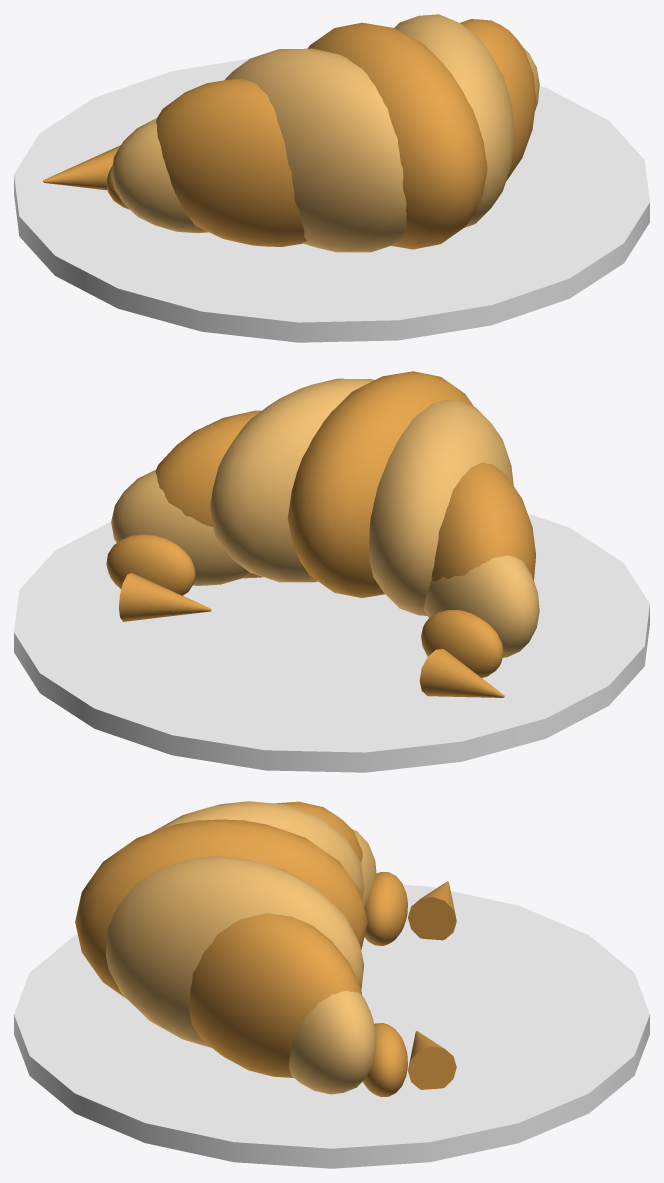
The model's file is Bakery_L5.fbx.
3 renders of one model, top to bottom at view 1: azimuth 30°, elevation 25°; view 2: azimuth 150°, elevation 25°; view 3: azimuth 270°, elevation 25°, orthographic.
Visible parts, largest first — view 1: B5_Plate, B5_Band (×6), B5_Horn; view 2: B5_Plate, B5_Band (×9), B5_Horn (×2); view 3: B5_Plate, B5_Band (×9), B5_Horn (×2).
Boxes of the visible parts, bbox=[...] form: B5_Plate: bbox=[14, 58, 649, 342]; B5_Band (×6): bbox=[111, 14, 535, 252]; B5_Horn: bbox=[43, 145, 120, 190]; B5_Plate: bbox=[14, 513, 649, 772]; B5_Band (×9): bbox=[106, 371, 539, 677]; B5_Horn (×2): bbox=[119, 572, 504, 697]; B5_Plate: bbox=[14, 884, 649, 1168]; B5_Band (×9): bbox=[75, 801, 407, 1096]; B5_Horn (×2): bbox=[408, 881, 456, 1089].
Size of the model in its own units: 23 by 8.39 by 23.
